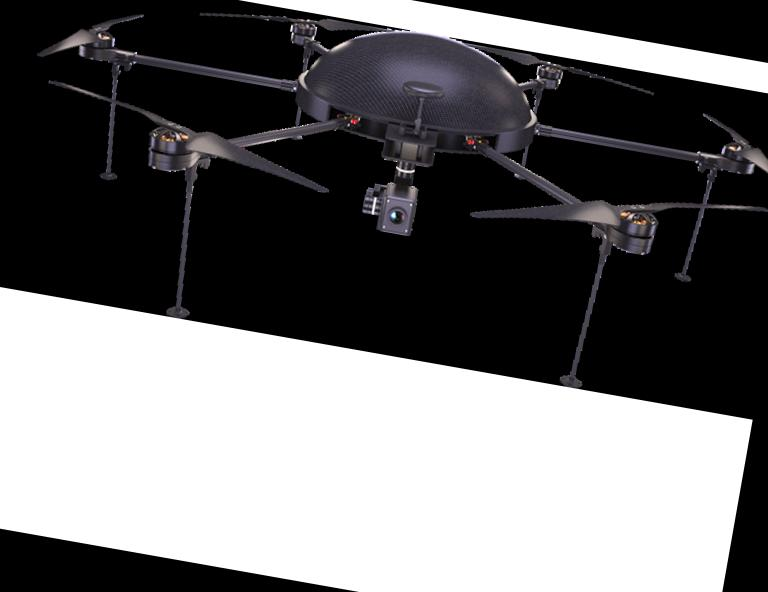drone: (15, 0, 768, 321)
